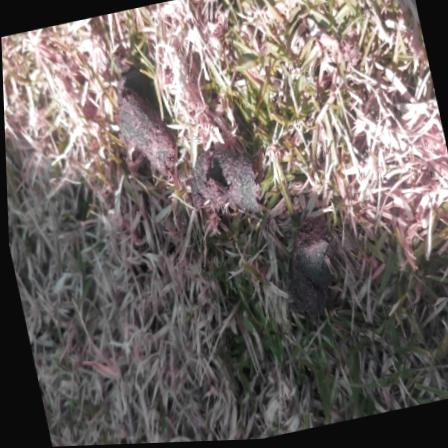dog-poop: (100, 74, 268, 243), (258, 218, 351, 332)
